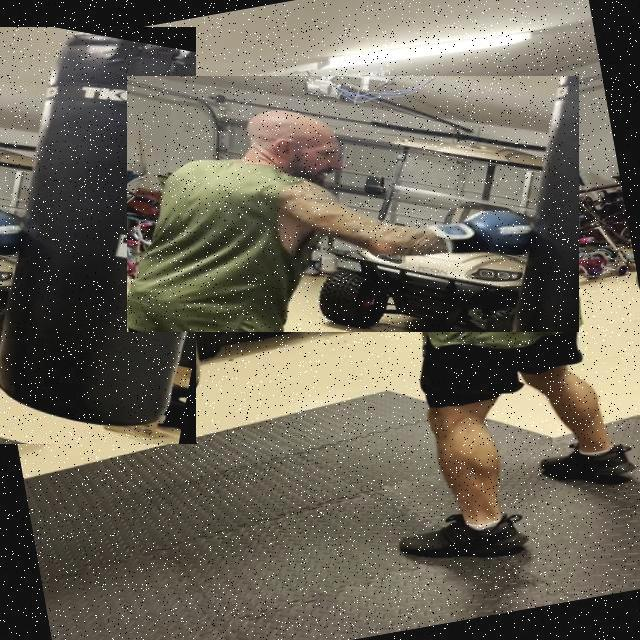punch: (127, 76, 579, 332)
